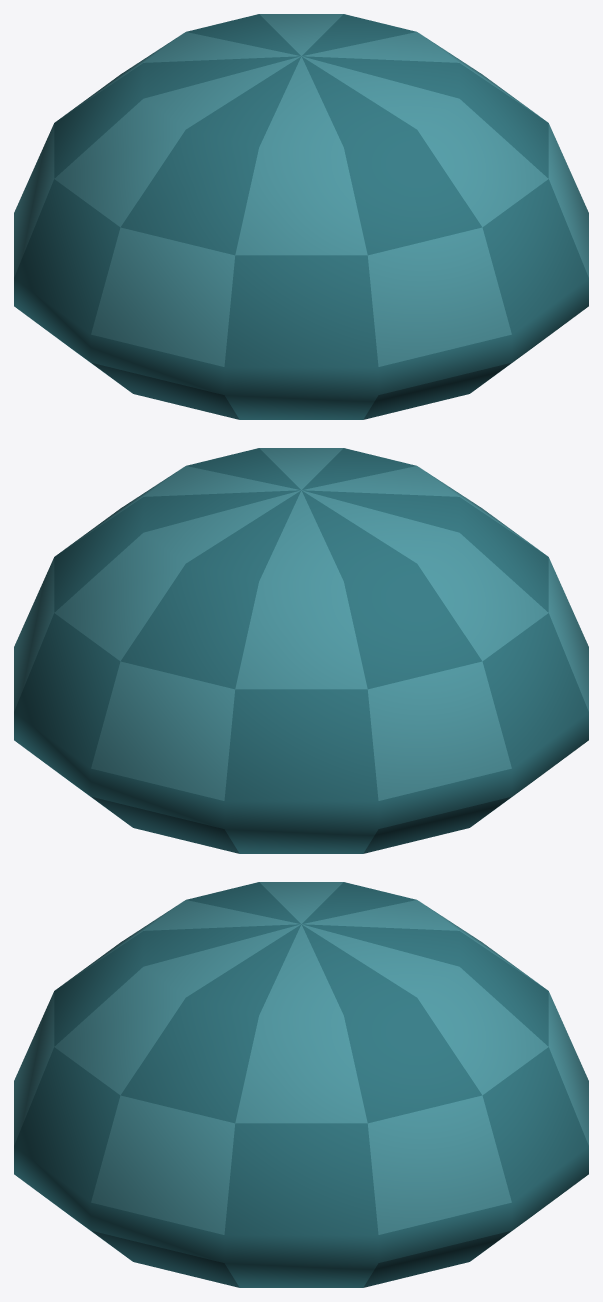
The model's file is Gem_29.glb.
3 views of the same model, one above another, from view 1: azimuth 30°, elevation 25°; view 2: azimuth 150°, elevation 25°; view 3: azimuth 270°, elevation 25° (orthographic).
Parts seen in each view (by area): view 1: Gem_29; view 2: Gem_29; view 3: Gem_29.
Part boxes in pixels (x1,y1,x2,y2): Gem_29: [14, 14, 588, 419]; Gem_29: [14, 448, 588, 853]; Gem_29: [14, 882, 588, 1287].
Size of the model in its own units: 1 by 0.5543 by 1.
